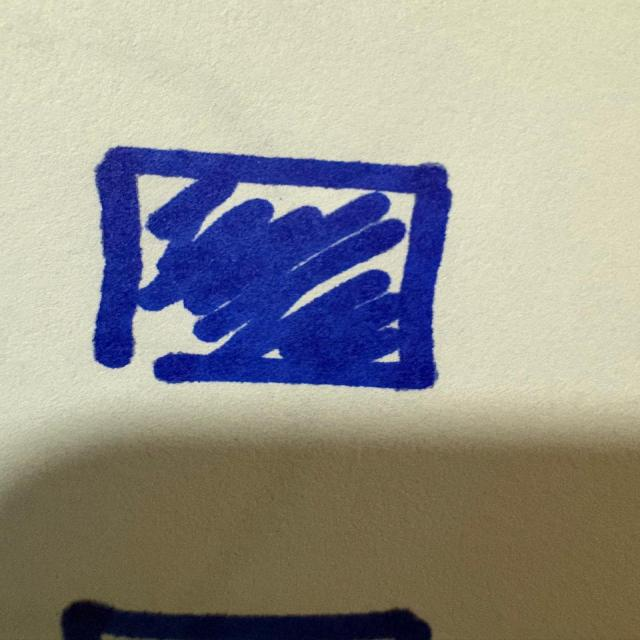Square: (82, 140, 448, 400)
